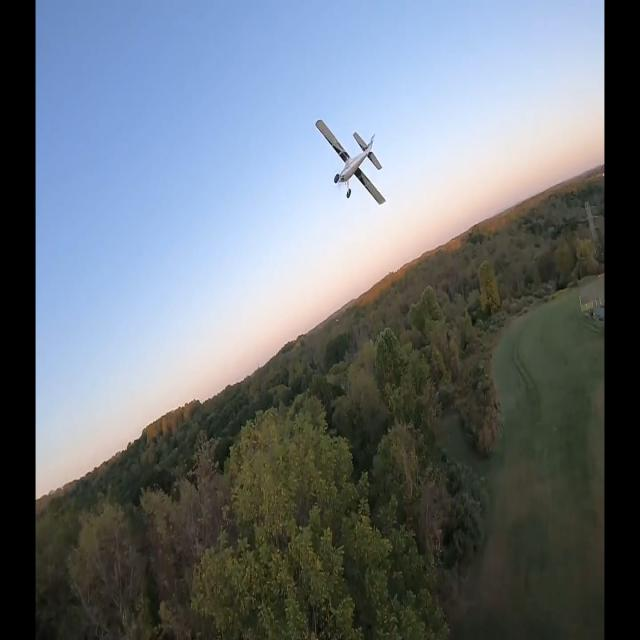iha: (350, 150, 352, 176)
